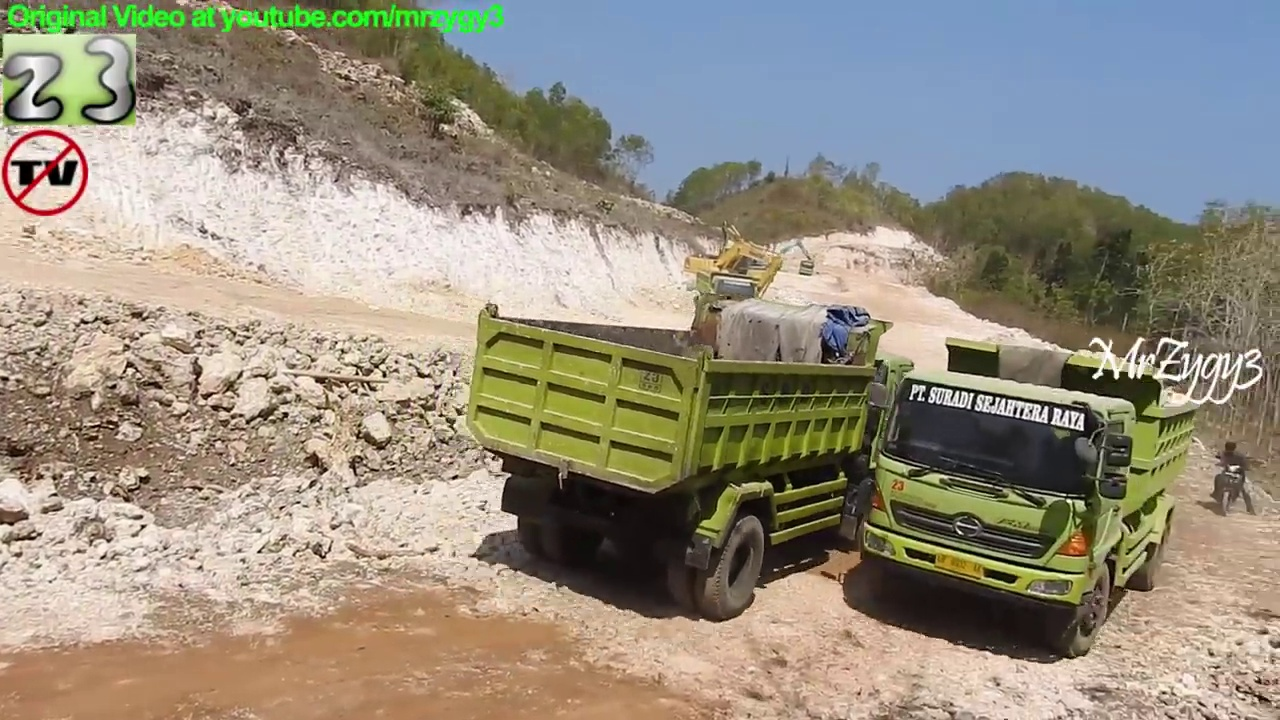excavator: (684, 243, 785, 303), (712, 216, 765, 279), (765, 237, 813, 272)
truck: (465, 290, 917, 623), (862, 333, 1205, 661), (693, 264, 762, 316), (798, 257, 817, 278)
